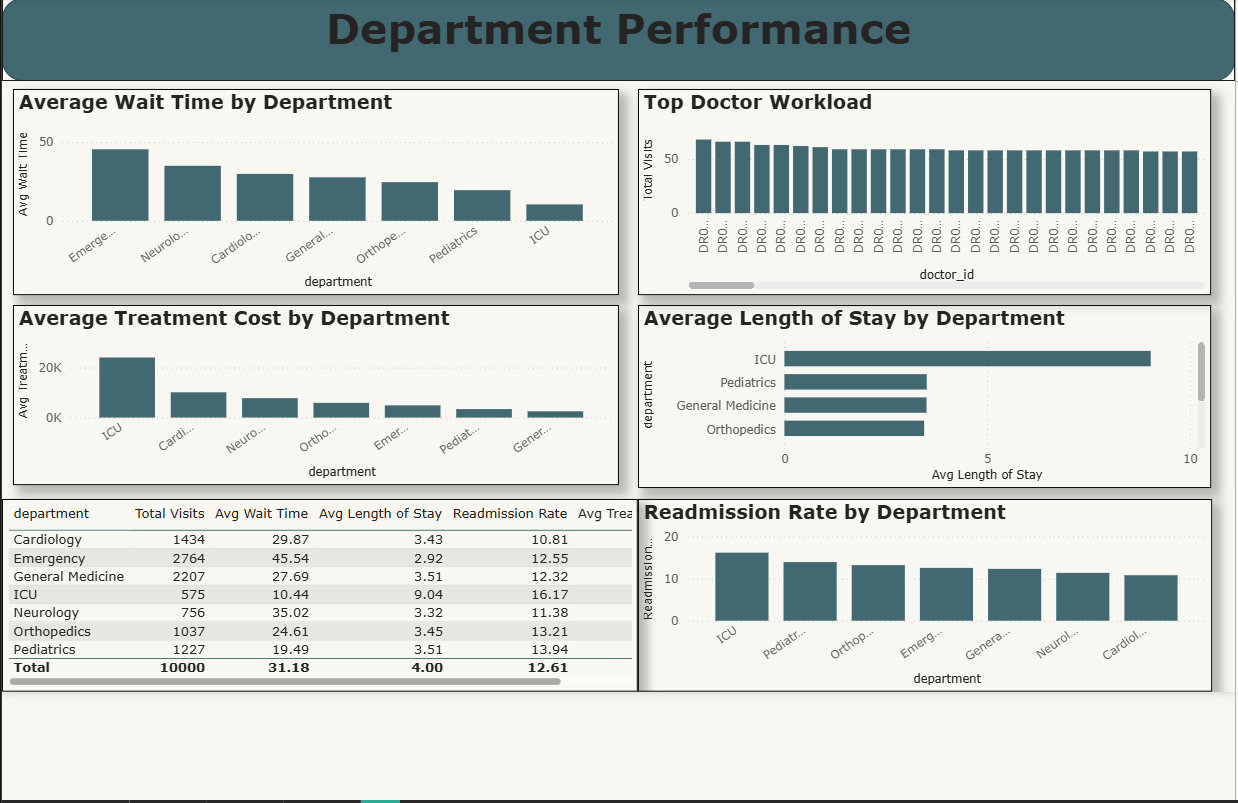

This screenshot's page, from the dashboard's own definition file:
{"tool":"powerbi","page":{"name":"Page 2","canvas":[1280,720],"ordinal":1},"visuals":[{"type":"shape","box":[0,0,1280,86.2],"z":0},{"type":"textbox","box":[0,0,1280,86.2],"z":1000},{"type":"clusteredColumnChart","fields":{"Category":["hospital_data.department"],"Y":["Key Measures.Avg Wait Time"]},"box":[11.4,94.5,588.6,213.9],"z":2000},{"type":"clusteredBarChart","fields":{"Category":["hospital_data.department"],"Y":["Key Measures.Avg Length of Stay"]},"box":[660.2,318.7,594.8,190],"z":3000},{"type":"columnChart","fields":{"Category":["hospital_data.department"],"Y":["Key Measures.Avg Treatment Cost"]},"box":[11.4,318.7,629.1,186.9],"z":4000},{"type":"columnChart","fields":{"Category":["hospital_data.department"],"Y":["Key Measures.Readmission Rate"]},"box":[672.7,520.1,595.9,200.4],"z":5000},{"type":"clusteredColumnChart","fields":{"Category":["hospital_data.doctor_id"],"Y":["Key Measures.Total Visits"]},"box":[610.4,94.5,644.7,213.9],"z":6000},{"type":"tableEx","fields":{"Values":["hospital_data.department","Key Measures.Total Visits","Key Measures.Avg Wait Time","Key Measures.Avg Length of Stay","Key Measures.Readmission Rate","Key Measures.Avg Treatment Cost"]},"box":[0,520.1,660.2,200.4],"z":7000}]}

Visuals, with their boxes on the page's 1280x720 design canvas (x1, y1, x2, y2). These are canvas units, not pixel positions in the 1238x803 screenshot, which may show the page scaled, cropped or inside an application window:
shape: [0, 0, 1280, 86]
textbox: [0, 0, 1280, 86]
clusteredColumnChart - hospital_data.department x Key Measures.Avg Wait Time: [11, 94, 600, 308]
clusteredBarChart - hospital_data.department x Key Measures.Avg Length of Stay: [660, 319, 1255, 509]
columnChart - hospital_data.department x Key Measures.Avg Treatment Cost: [11, 319, 640, 506]
columnChart - hospital_data.department x Key Measures.Readmission Rate: [673, 520, 1269, 720]
clusteredColumnChart - hospital_data.doctor_id x Key Measures.Total Visits: [610, 94, 1255, 308]
tableEx - hospital_data.department x Key Measures.Total Visits: [0, 520, 660, 720]
